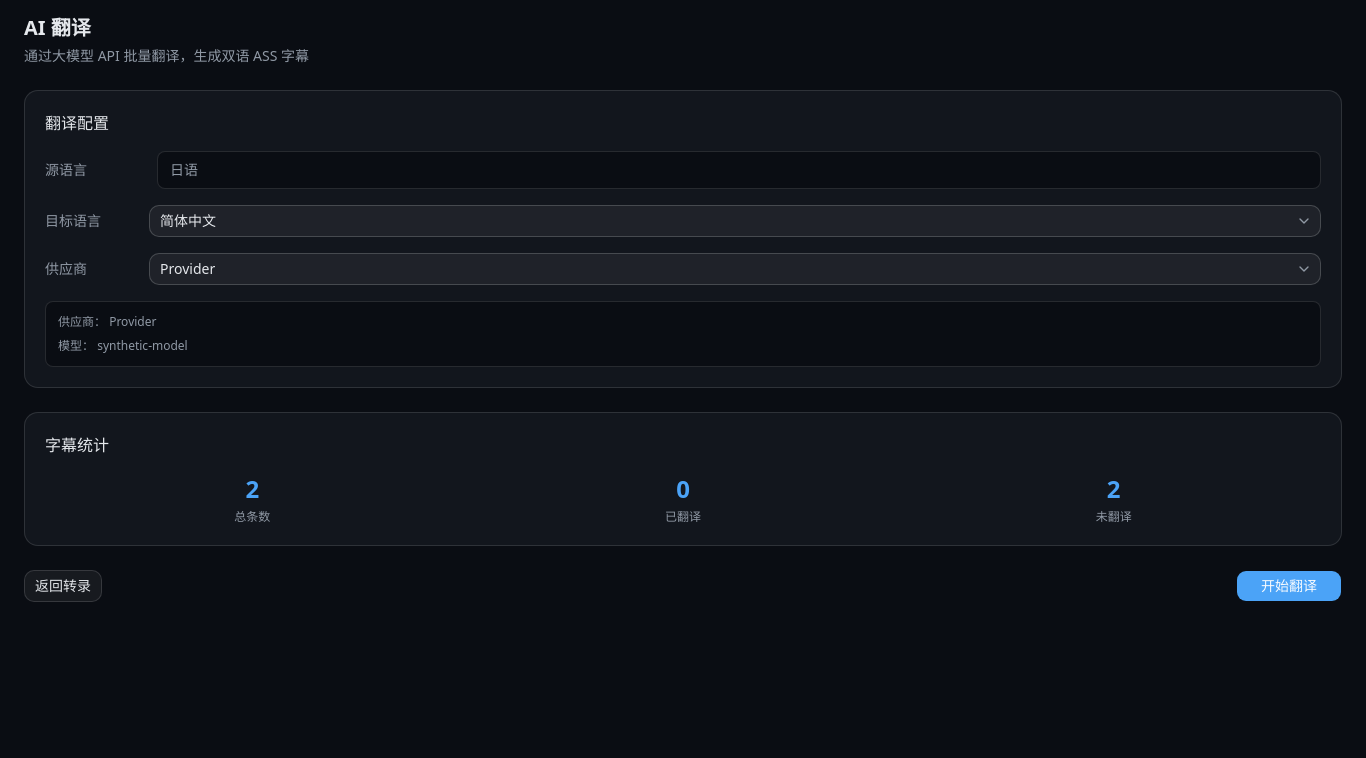
Test: TranslateView › explicitly saves an incomplete result and enables the editor
Click the button "开始翻译" at (1289, 586), box [1236,570,1342,602]
(page scrolled)
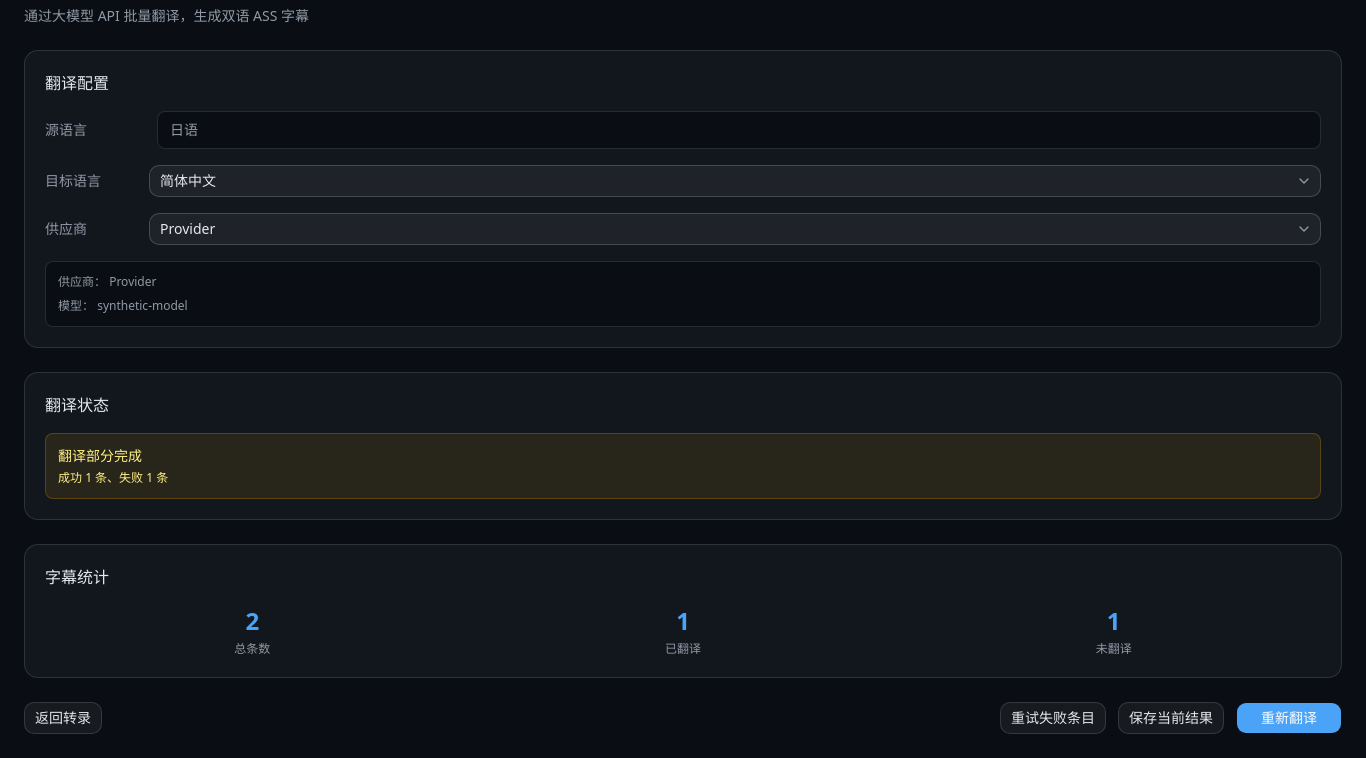
Click the button "保存当前结果" at (1171, 718), box [1118,702,1224,734]
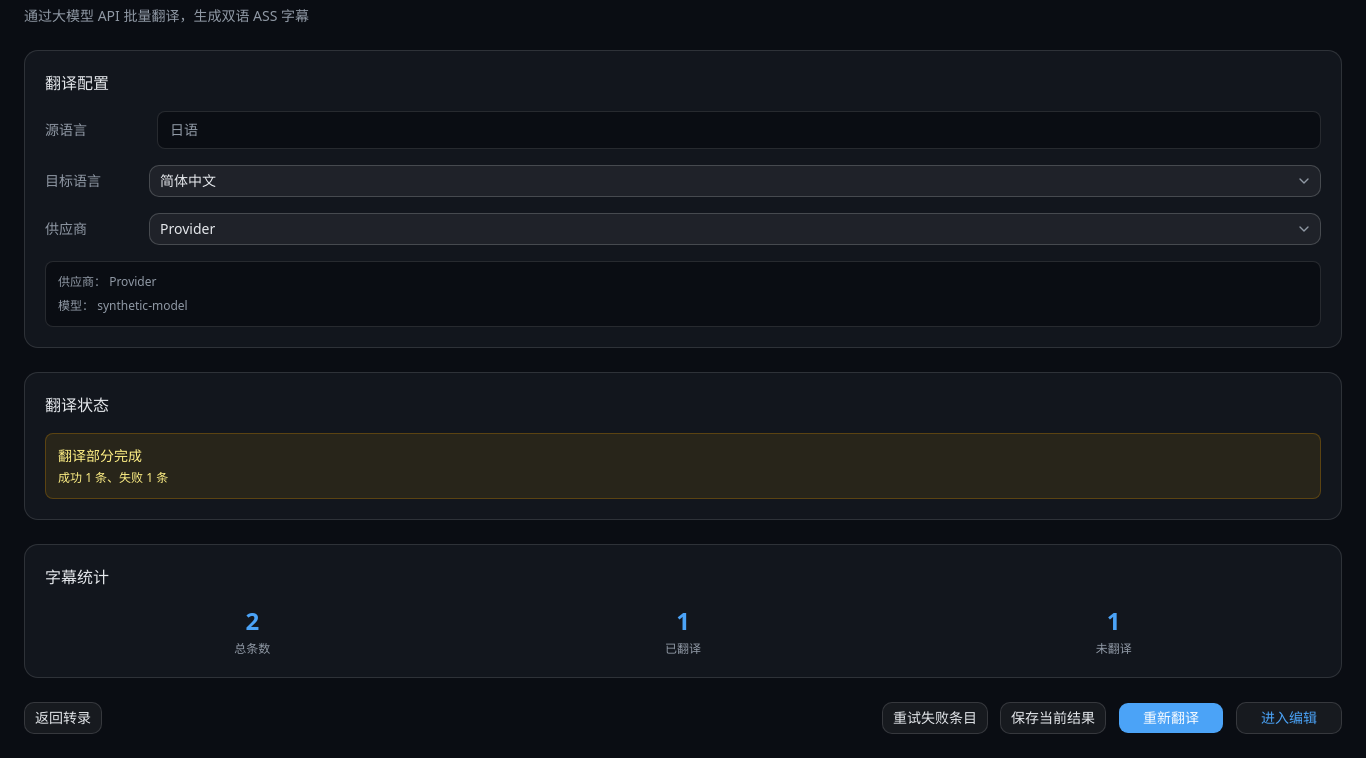
Expected: the button "进入编辑" is shown, [1236,702,1342,734]
